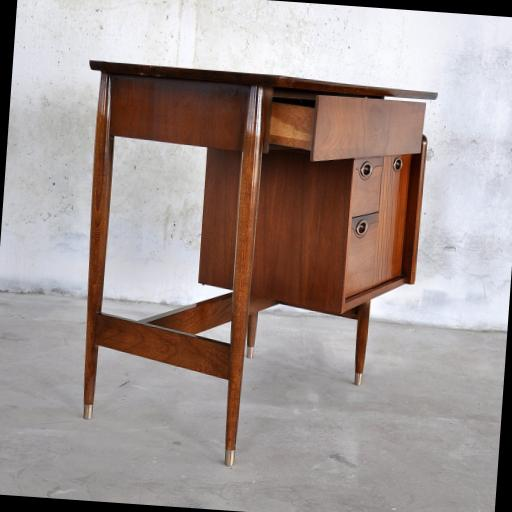desk: (62, 60, 439, 478)
wall: (0, 0, 512, 333)
